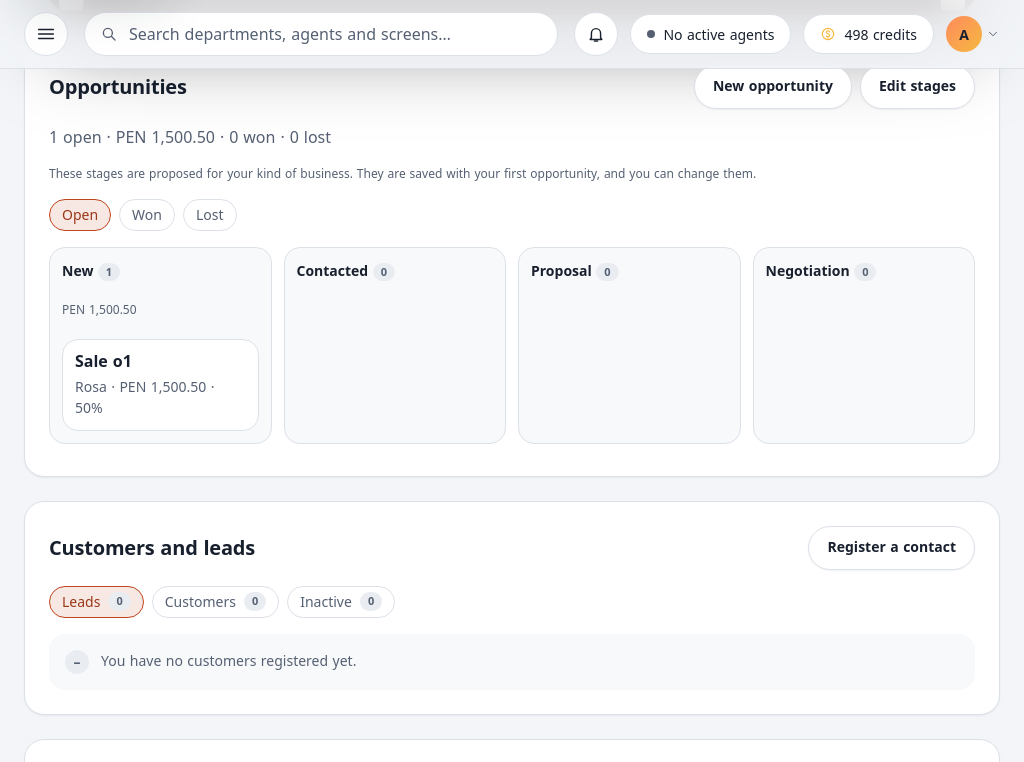
Test: opportunities in the Comercial office (C2) › shows the history from the audit trail
(page scrolled)
Click the button "Sale o1 Rosa · PEN 1,500.50 · 50%".
click(160, 385)  # box [62,339,258,431]
(page scrolled)
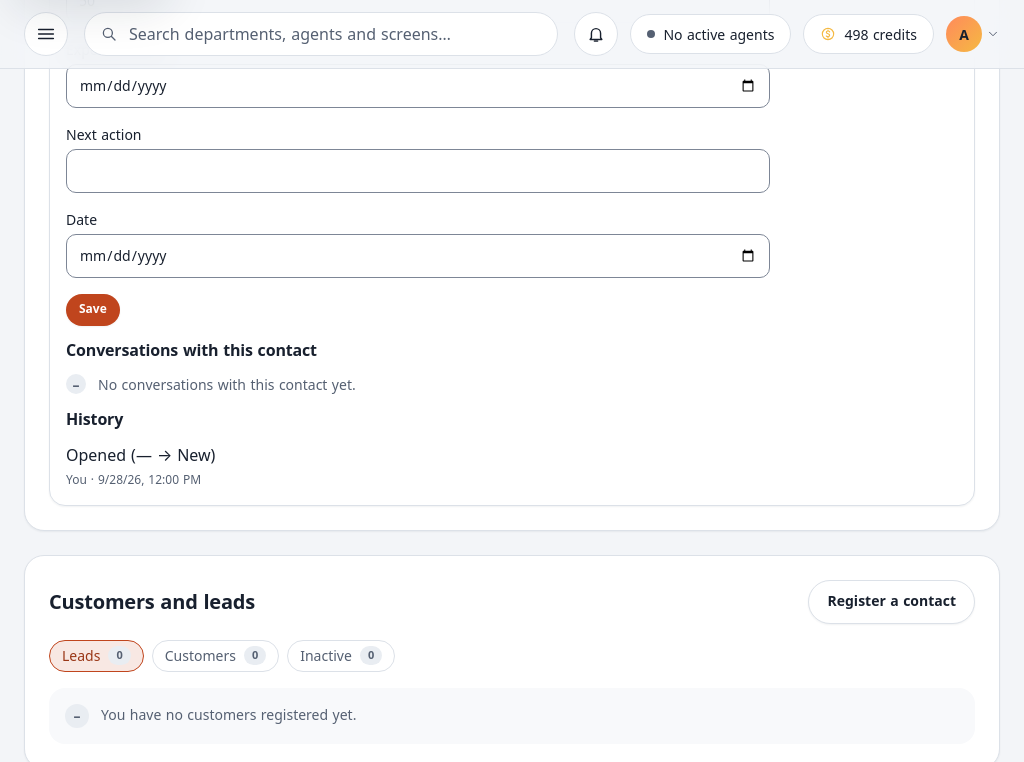
Expected: the text "Opened (— → New)" is shown, [66,444,215,466]
Expected: the text "No conversations with this contact yet." is shown, [98,374,356,394]
